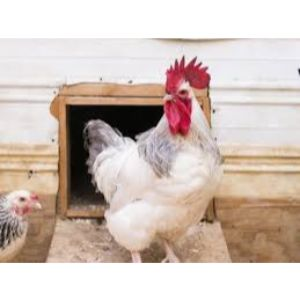hen: (68, 48, 230, 263), (1, 184, 47, 262)
